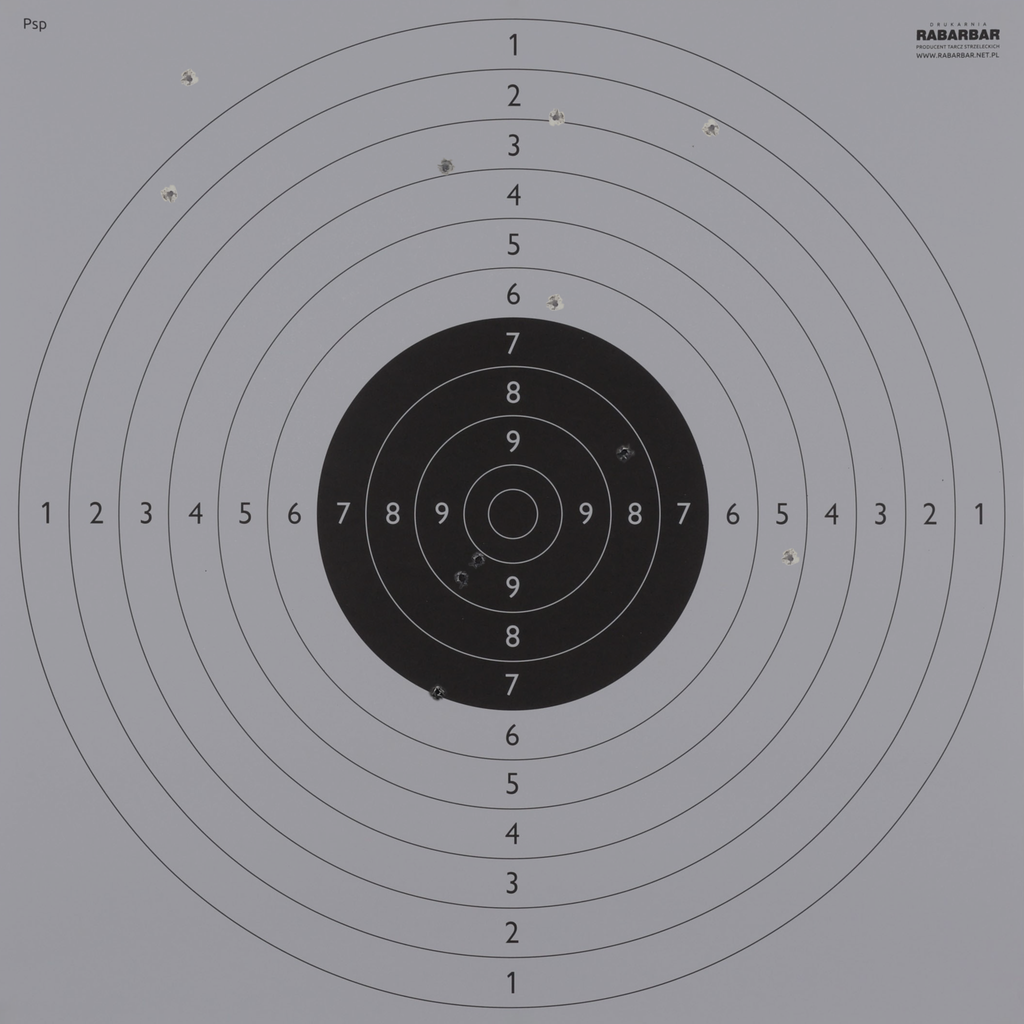0 punktow: (180, 69, 198, 88)
1 punkt: (161, 185, 179, 203)
10 punktow: (469, 551, 487, 569)
2 punkty: (703, 119, 721, 138)
3 punkty: (547, 108, 565, 127)
4 punkty: (437, 158, 455, 177)
5 punktow: (781, 549, 799, 567)
6 punktow: (546, 294, 564, 313)
7 punktow: (428, 682, 447, 701)
8 punktow: (615, 443, 634, 461)
9 punktow: (453, 569, 471, 588)
